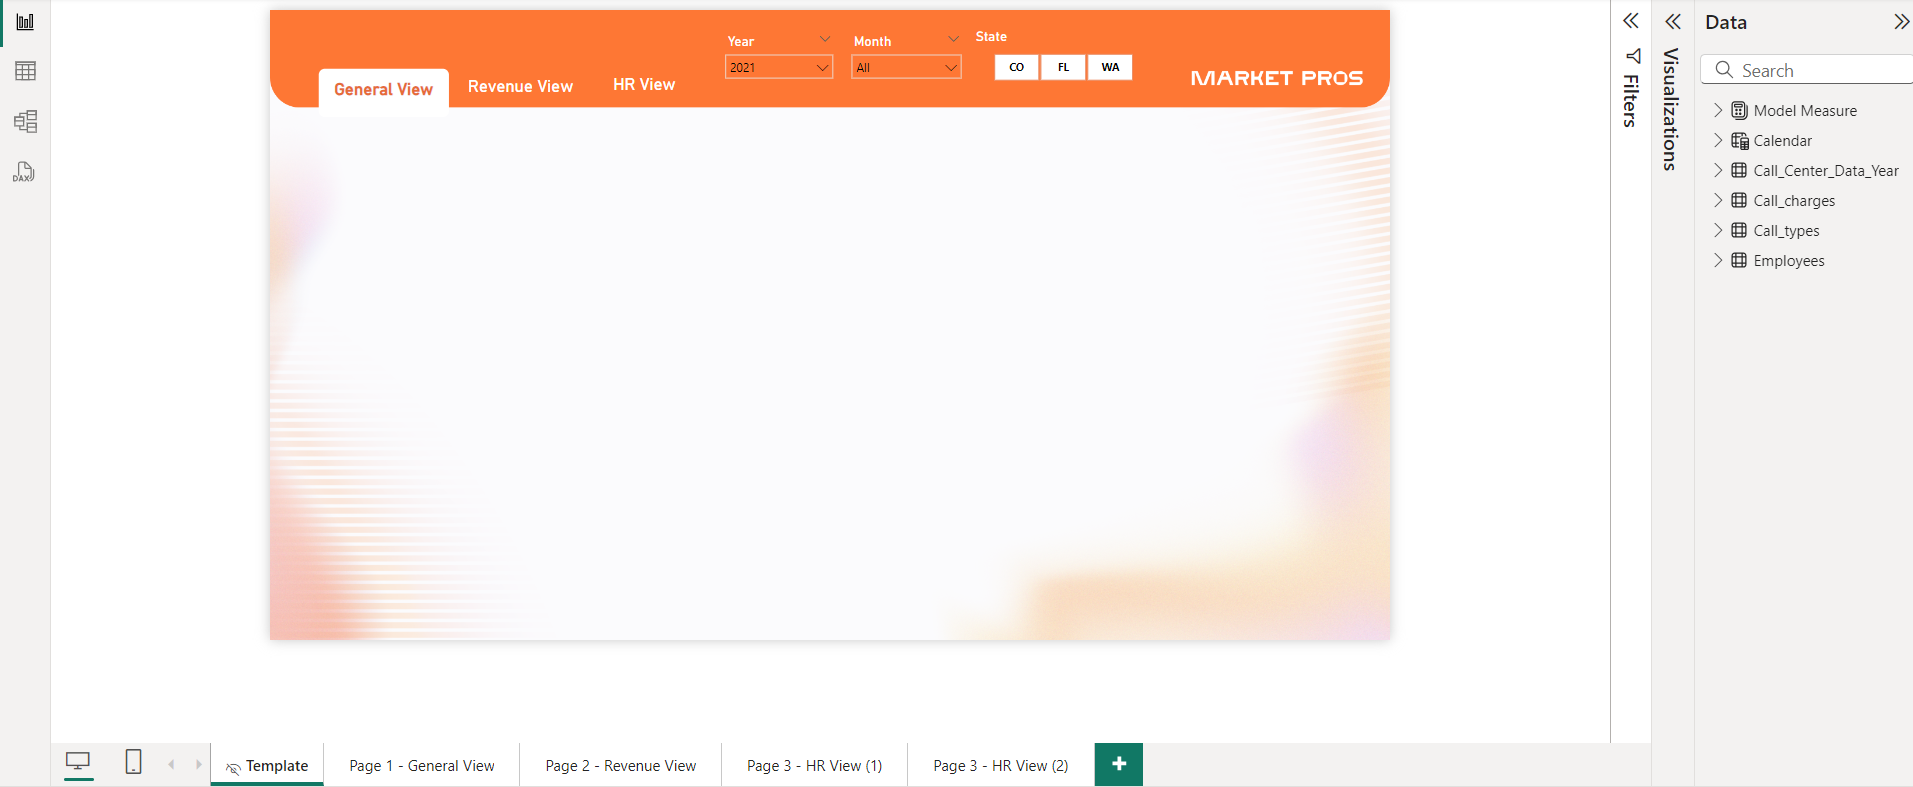

This screenshot's page, from the dashboard's own definition file:
{"tool":"powerbi","page":{"name":"Template","canvas":[1280,720],"ordinal":0},"visuals":[{"type":"textbox","box":[56.2,67.5,148.8,55],"z":0},{"type":"textbox","box":[216.2,71.2,141.2,31.2],"z":1000},{"type":"textbox","box":[357.5,68.8,141.2,31.2],"z":2000},{"type":"slicer","fields":{"Values":["Calendar.Year"]},"box":[510,21.2,143.8,80],"z":3000},{"type":"slicer","fields":{"Values":["Calendar.Month"]},"box":[655,21.2,146.2,78.8],"z":4000},{"type":"slicer","title":"State","fields":{"Values":["Employees.State"]},"box":[801.2,21.2,208.8,66.2],"z":5000}]}

Visuals, with their boxes on the page's 1280x720 design canvas (x1, y1, x2, y2). These are canvas units, not pixel positions in the 1913x787 screenshot, which may show the page scaled, cropped or inside an application window:
textbox: {"x1": 56, "y1": 68, "x2": 205, "y2": 122}
textbox: {"x1": 216, "y1": 71, "x2": 357, "y2": 102}
textbox: {"x1": 358, "y1": 69, "x2": 499, "y2": 100}
slicer - Calendar.Year: {"x1": 510, "y1": 21, "x2": 654, "y2": 101}
slicer - Calendar.Month: {"x1": 655, "y1": 21, "x2": 801, "y2": 100}
"State" slicer: {"x1": 801, "y1": 21, "x2": 1010, "y2": 87}
